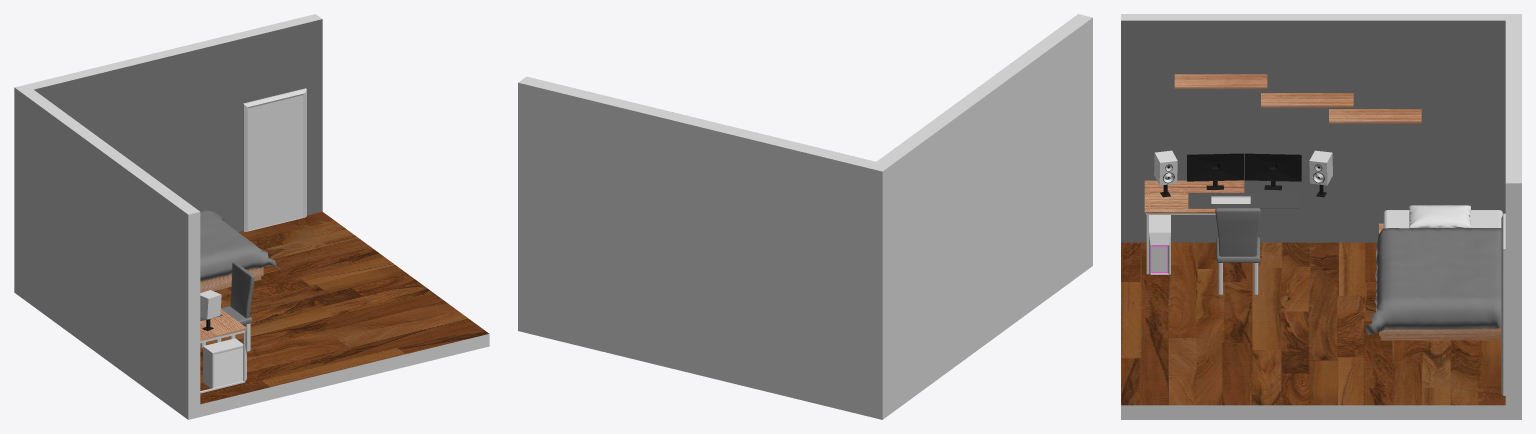
The model's file is room.glb.
3 views of the same model, side by side, from view 1: azimuth 30°, elevation 25°; view 2: azimuth 150°, elevation 25°; view 3: azimuth 270°, elevation 25° (orthographic). The views are drawn at different scales.
Parts seen in each view (by area): view 1: Room, Door, Blanket, Monitor, Chair, Desk, FirstSpeaker, BedBase; view 2: Room; view 3: Room, Blanket, Chair, Desk, SecondScreen, FirstScreen, BedBase, Keyboard, Pillow, FirstShelf, SecondShelf, ThirdShelf (+5 smaller).
Part boxes in pixels (x1,y1,x2,y2): Room: (14, 14, 489, 419); Door: (243, 88, 306, 231); Blanket: (199, 209, 280, 281); Monitor: (203, 338, 246, 388); Chair: (200, 262, 254, 351); Desk: (200, 309, 247, 393); FirstSpeaker: (200, 290, 221, 330); BedBase: (200, 267, 263, 292); Room: (518, 14, 1092, 419); Room: (1121, 14, 1521, 419); Blanket: (1365, 228, 1501, 334); Chair: (1215, 208, 1260, 294); Desk: (1144, 180, 1244, 274); SecondScreen: (1244, 153, 1301, 190); FirstScreen: (1187, 153, 1243, 189); BedBase: (1379, 223, 1501, 340); Keyboard: (1188, 193, 1298, 208); Pillow: (1409, 205, 1470, 228); FirstShelf: (1174, 74, 1267, 88); SecondShelf: (1261, 93, 1353, 107); ThirdShelf: (1329, 109, 1421, 123).
Size of the model in its own units: 8.66 by 5.64 by 8.66.
Materials: 14 (2 with a texture image).
